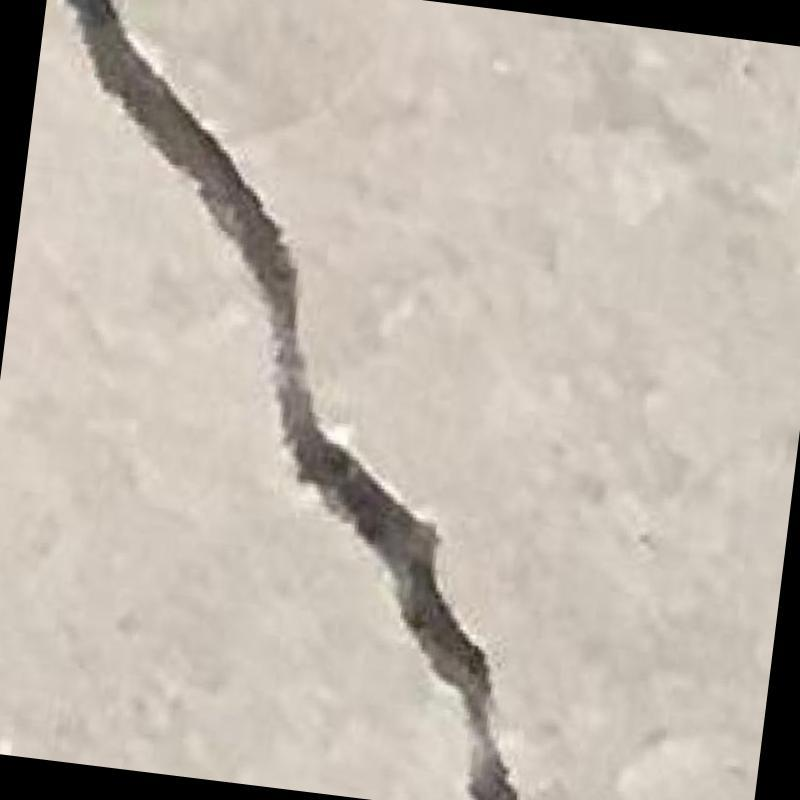pothole: (67, 0, 519, 800)
